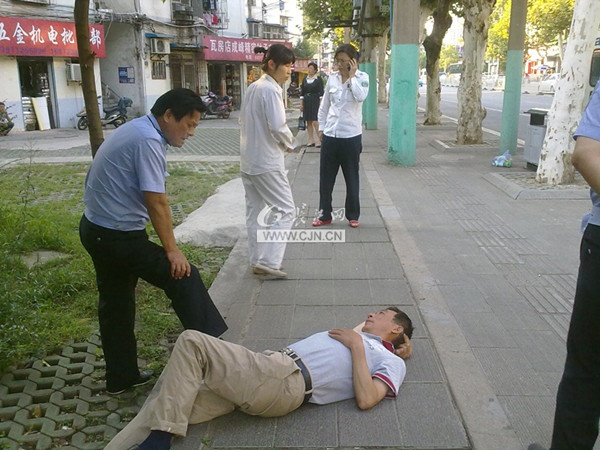falling: (51, 294, 435, 450)
